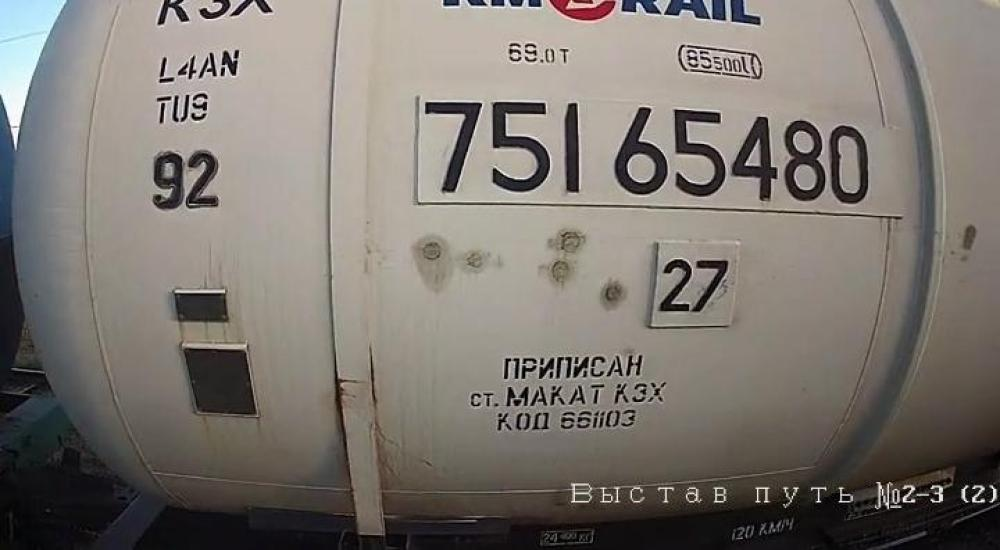Wagon-number: (420, 98, 871, 214)
